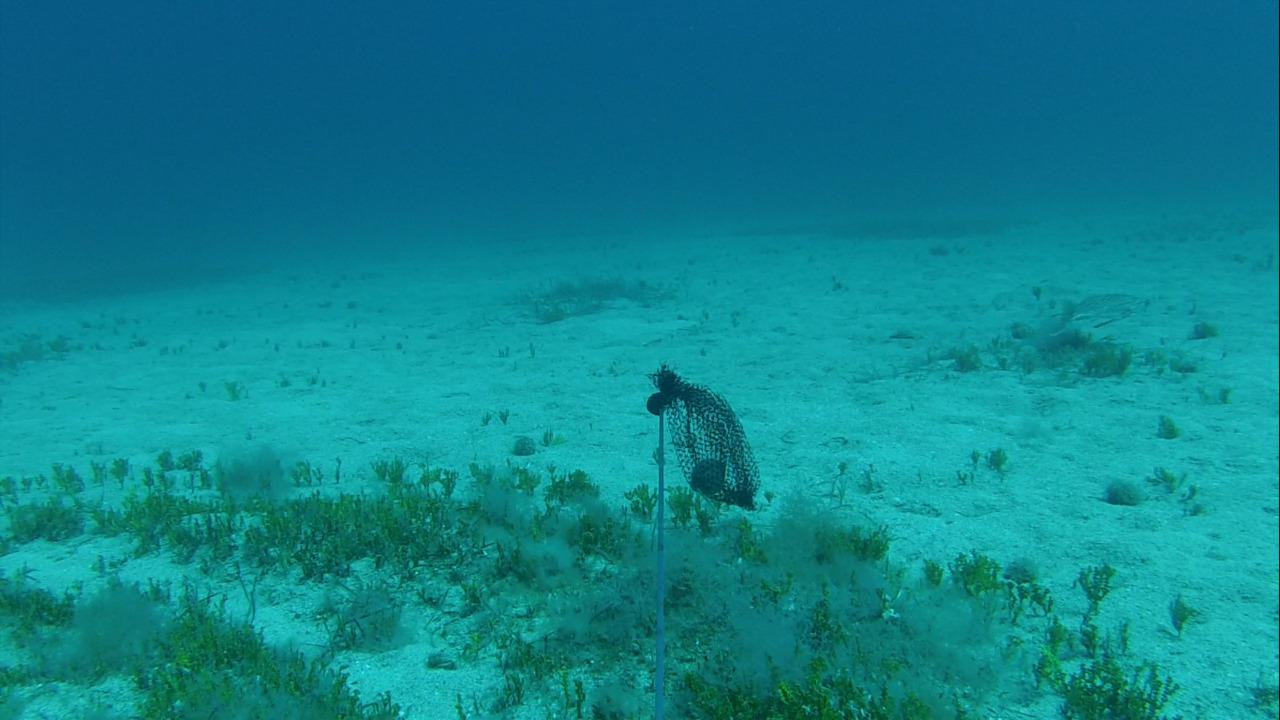dactylopterus: (1042, 285, 1157, 331)
